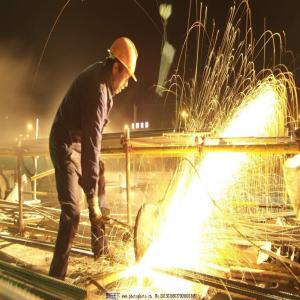yellow: (107, 36, 139, 96)
